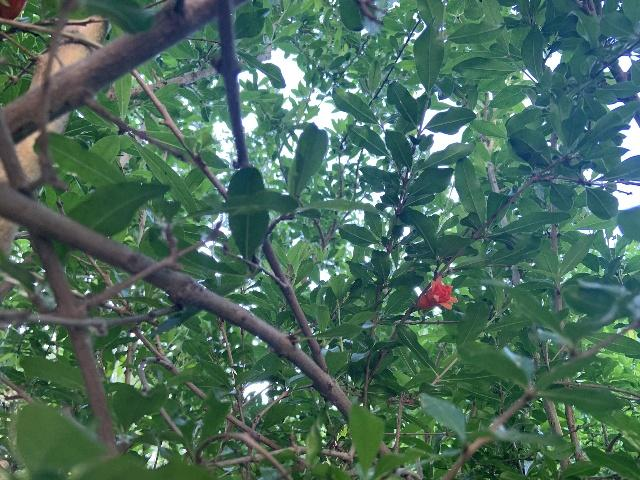flower: (416, 275, 458, 310)
